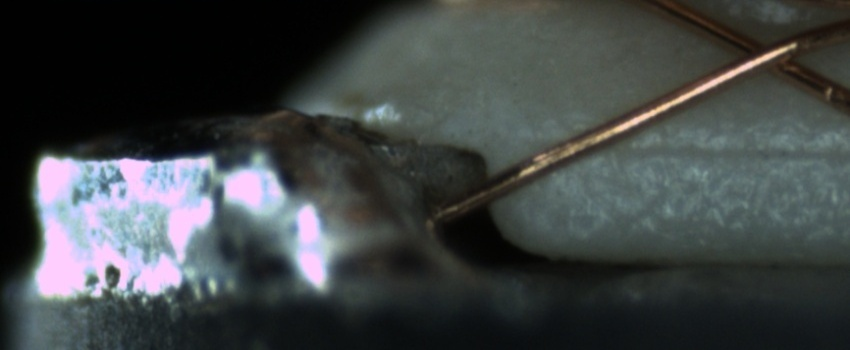CL: (711, 25, 821, 85)
DL: (554, 114, 847, 182)
